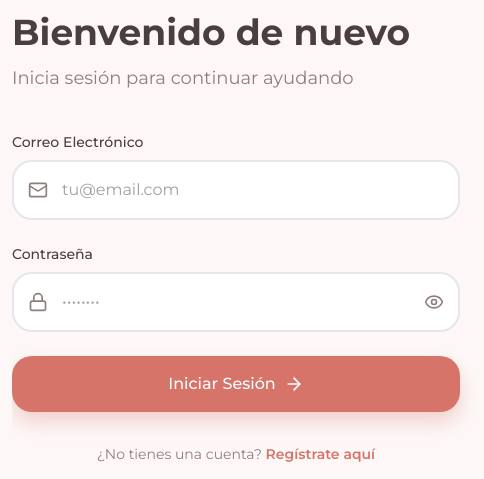
Test: LoginForm › deshabilita el botón mientras carga
The width and height of the screenshot is (484, 479).
Type "admin@hadassa.com" into the field labelled "Correo Electrónico" at (236, 190), box left=12, top=160, right=460, bottom=220
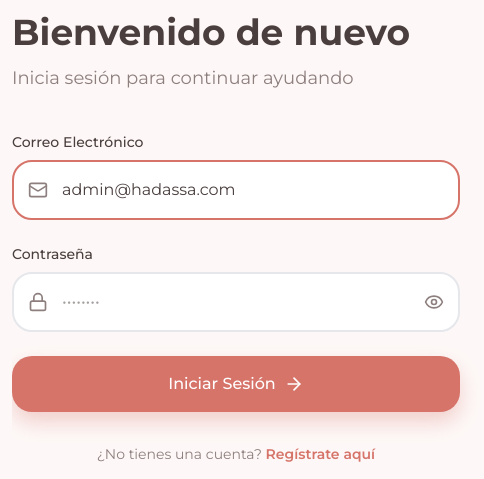
Type "password123" into the password field labelled "Contraseña" at (236, 302), box left=12, top=272, right=460, bottom=332
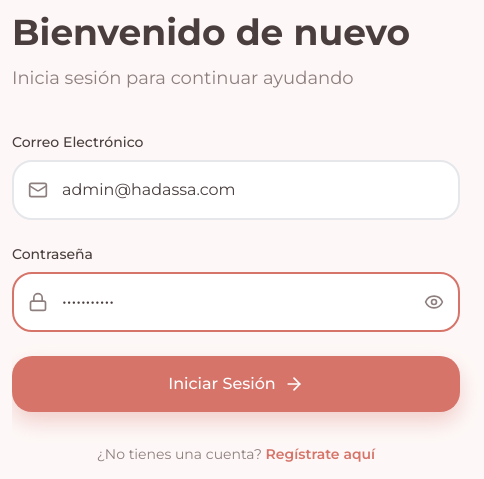
Submit the form "Correo Electrónico Contraseña Iniciar Sesión", box left=12, top=132, right=460, bottom=412
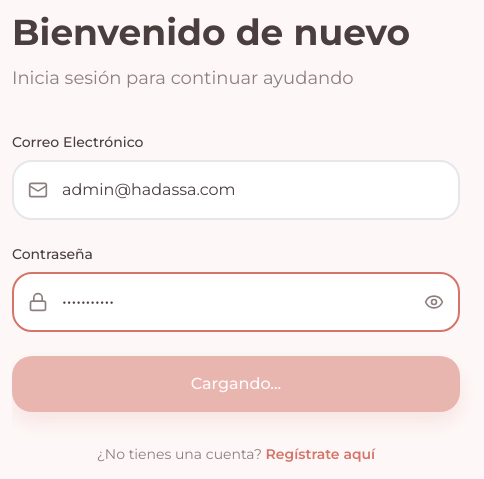
Check: the button "Cargando..." is shown, box left=12, top=356, right=460, bottom=412
